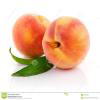Peach leaf: (10, 57, 55, 78), (8, 47, 41, 65)
